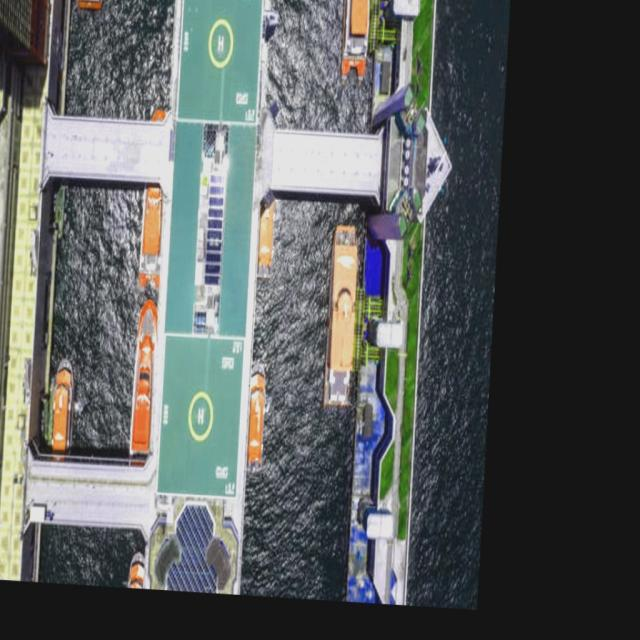helipad: (186, 390, 213, 442), (207, 18, 234, 68)
